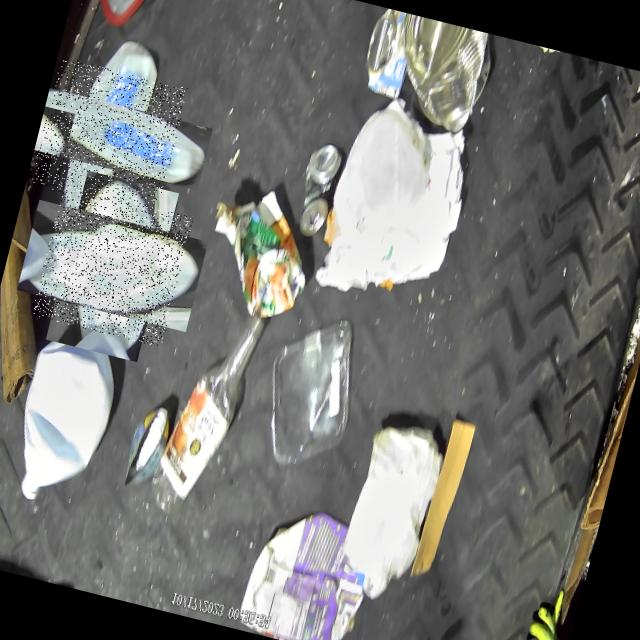milk-jug: (30, 184, 192, 346), (29, 55, 188, 214)
